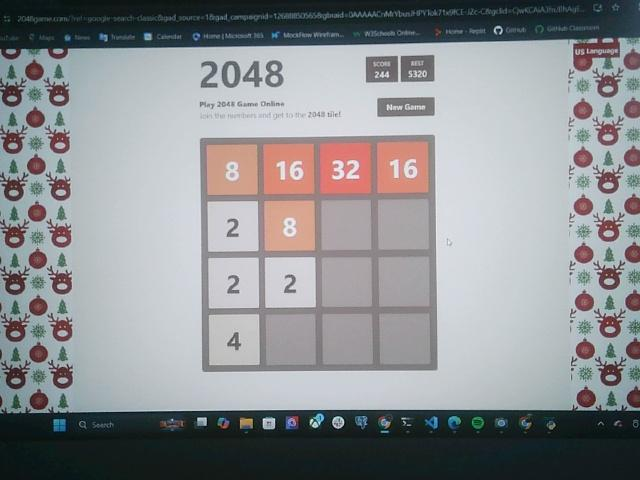board: (199, 136, 437, 371)
tile: (376, 141, 428, 193), (208, 257, 259, 309), (265, 256, 316, 308), (321, 142, 371, 194), (265, 143, 314, 196), (209, 315, 259, 366), (206, 145, 258, 194), (208, 201, 258, 251), (265, 201, 315, 251)
